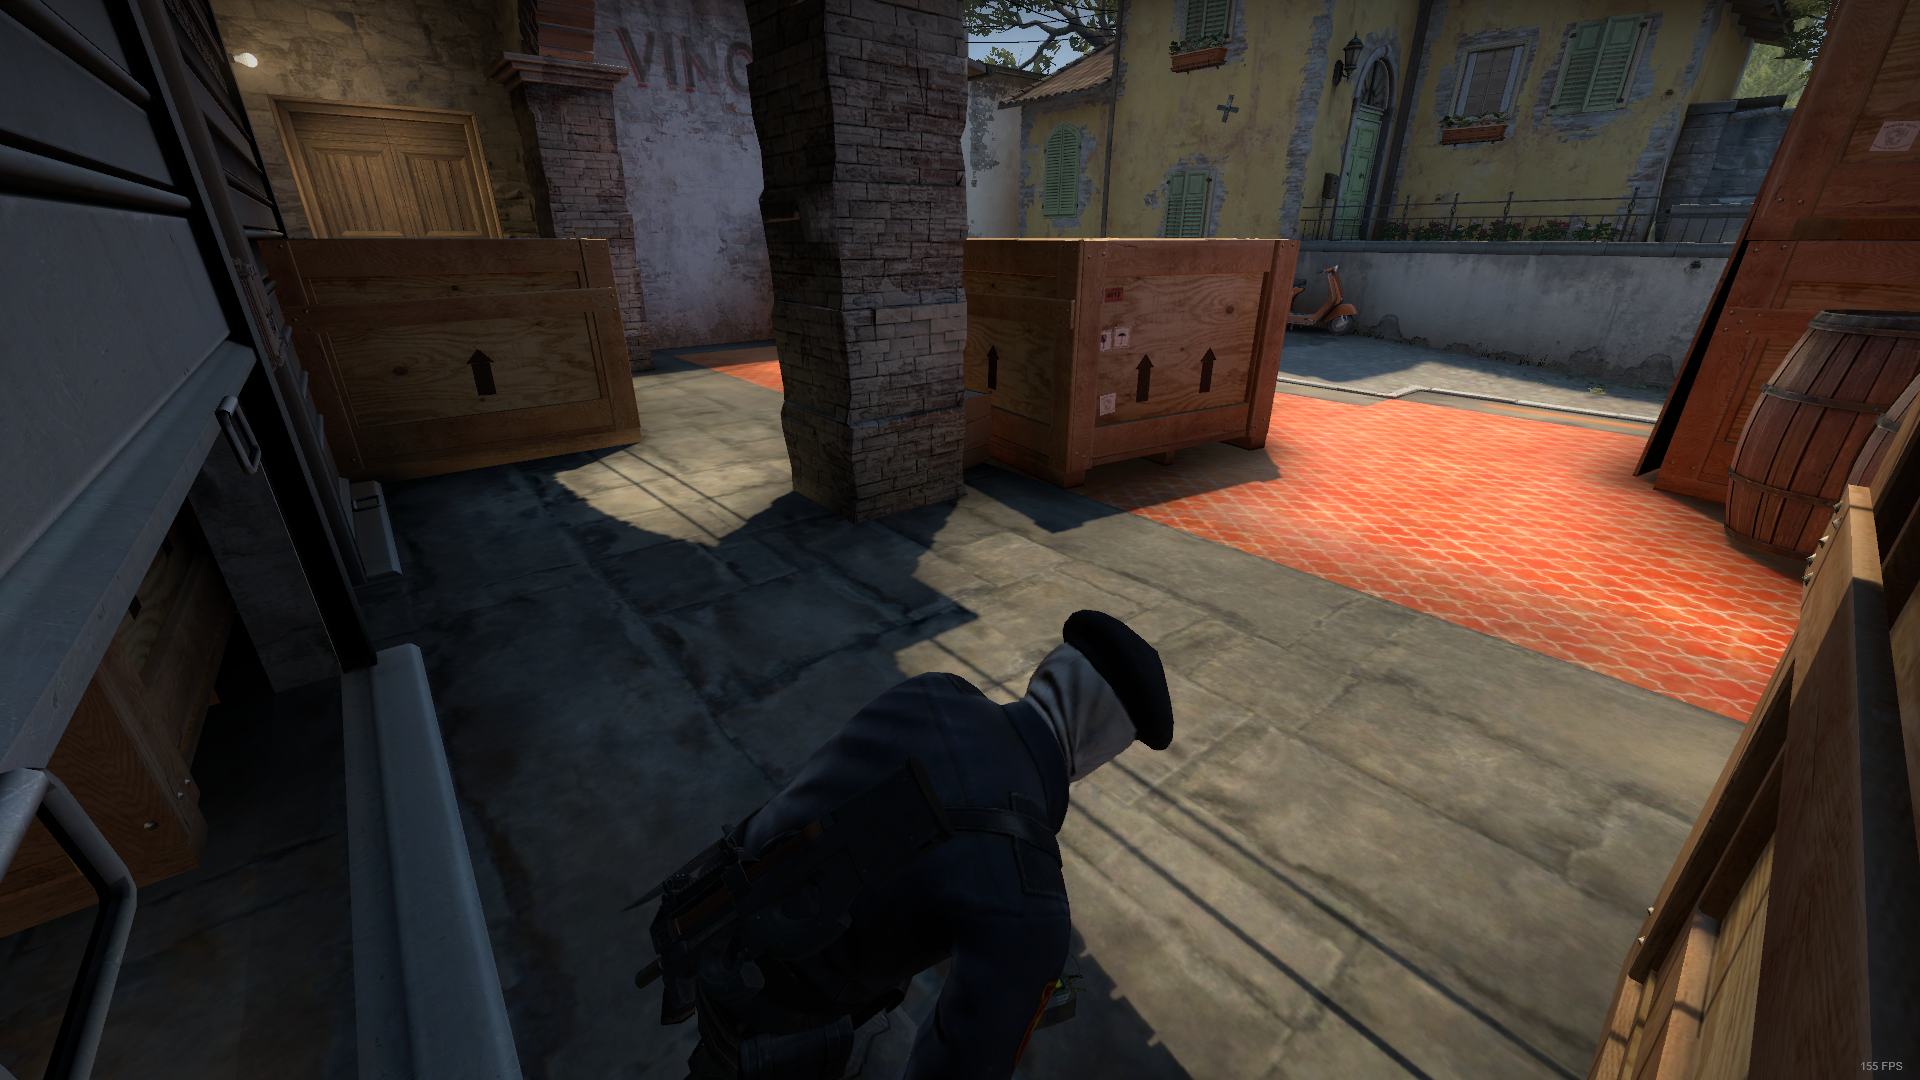t: (650, 603, 1183, 1080)
